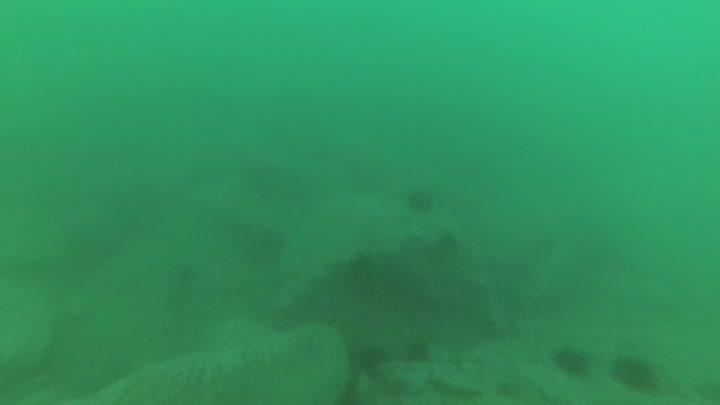echinus: (609, 352, 660, 394), (551, 344, 593, 379), (352, 341, 390, 375), (344, 251, 379, 287), (400, 337, 434, 367), (404, 186, 437, 216), (432, 229, 463, 259)
